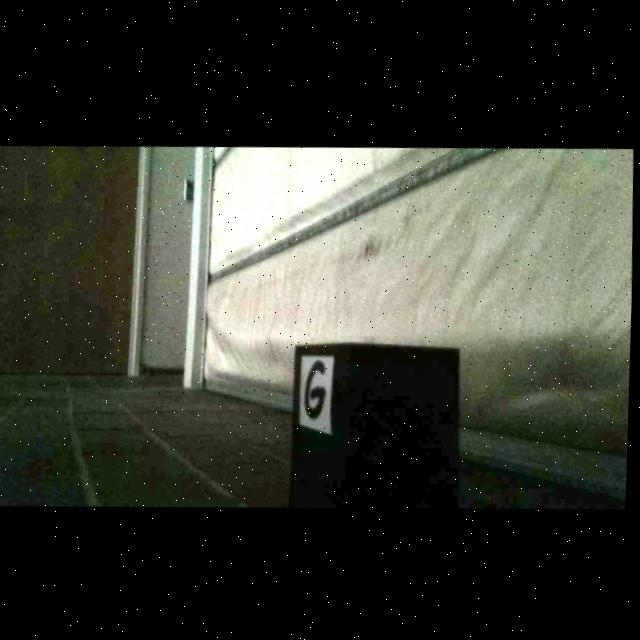G: (306, 358, 327, 418)
